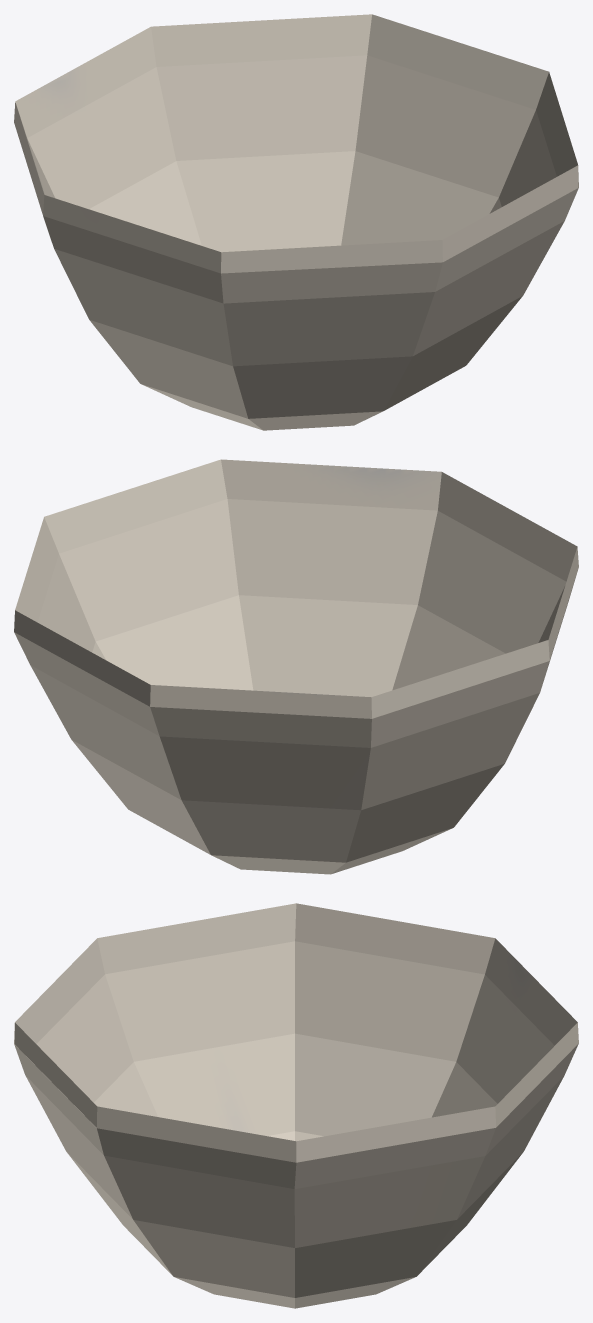
File: Salandier.fbx
The picture shows the model from 3 angles, top to bottom: view 1: azimuth 30°, elevation 25°; view 2: azimuth 150°, elevation 25°; view 3: azimuth 270°, elevation 25°; orthographic projection. The views are drawn at different scales.
Visible parts, largest first — view 1: Saladier; view 2: Saladier; view 3: Saladier.
Part boxes in pixels (x1,y1,x2,y2): Saladier: (14, 14, 578, 430); Saladier: (14, 459, 578, 874); Saladier: (14, 903, 578, 1308).
Bounding box in the file's own units: 40.49 × 18.9 × 40.45.
Materials: 1 (1 with a texture image).
